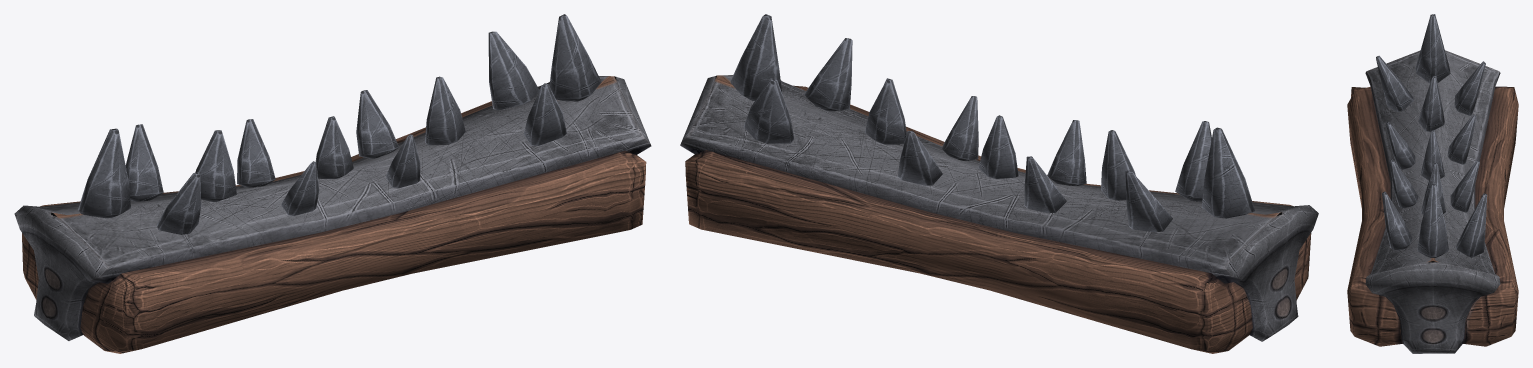
The model's file is spike.obj.
The picture shows the model from 3 angles, left to right: view 1: azimuth 30°, elevation 25°; view 2: azimuth 150°, elevation 25°; view 3: azimuth 270°, elevation 25°; orthographic projection. The views are drawn at different scales.
Parts seen in each view (by area): view 1: fnty_prop_spike_strip_v1_mesh.2_Mesh_0; view 2: fnty_prop_spike_strip_v1_mesh.2_Mesh_0; view 3: fnty_prop_spike_strip_v1_mesh.2_Mesh_0.
Part boxes in pixels (bbox=[...]): fnty_prop_spike_strip_v1_mesh.2_Mesh_0: bbox=[14, 14, 651, 353]; fnty_prop_spike_strip_v1_mesh.2_Mesh_0: bbox=[680, 14, 1318, 353]; fnty_prop_spike_strip_v1_mesh.2_Mesh_0: bbox=[1347, 14, 1518, 353].
Bounding box in the file's own units: 3.07 × 0.9798 × 0.9985.
